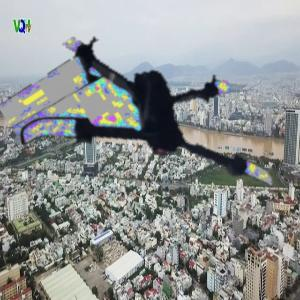drone: (35, 5, 280, 250)
